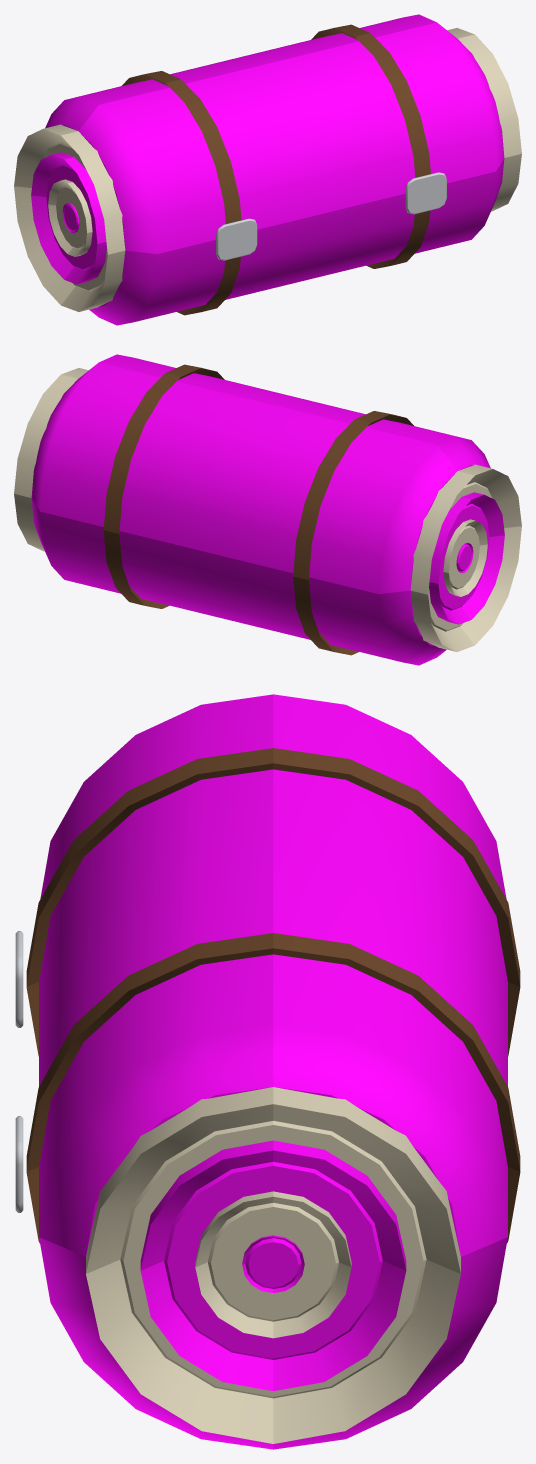
Rendered from objet_sac_couchage.glb.
3 views of the same model, one above another, from view 1: azimuth 30°, elevation 25°; view 2: azimuth 150°, elevation 25°; view 3: azimuth 270°, elevation 25° (orthographic). The views are drawn at different scales.
Visible parts, largest first — view 1: couchage_teinte.002, couchage_interieur.002, couchage_sac_cuir.002, couchage_boucle.002; view 2: couchage_teinte.002, couchage_interieur.002, couchage_sac_cuir.002; view 3: couchage_teinte.002, couchage_interieur.002, couchage_sac_cuir.002, couchage_boucle.002.
Part boxes in pixels (left/top/right/bottom): couchage_teinte.002: left=31, top=14, right=504, bottom=325; couchage_interieur.002: left=14, top=28, right=521, bottom=311; couchage_sac_cuir.002: left=122, top=24, right=430, bottom=315; couchage_boucle.002: left=216, top=172, right=446, bottom=260; couchage_teinte.002: left=31, top=354, right=504, bottom=665; couchage_interieur.002: left=14, top=368, right=521, bottom=651; couchage_sac_cuir.002: left=103, top=364, right=413, bottom=655; couchage_teinte.002: left=39, top=694, right=507, bottom=1449; couchage_interieur.002: left=86, top=1087, right=460, bottom=1443; couchage_sac_cuir.002: left=26, top=748, right=520, bottom=1243; couchage_boucle.002: left=15, top=931, right=23, bottom=1212.
Bounding box in the file's own units: 0.306 × 0.158 × 0.1615.
